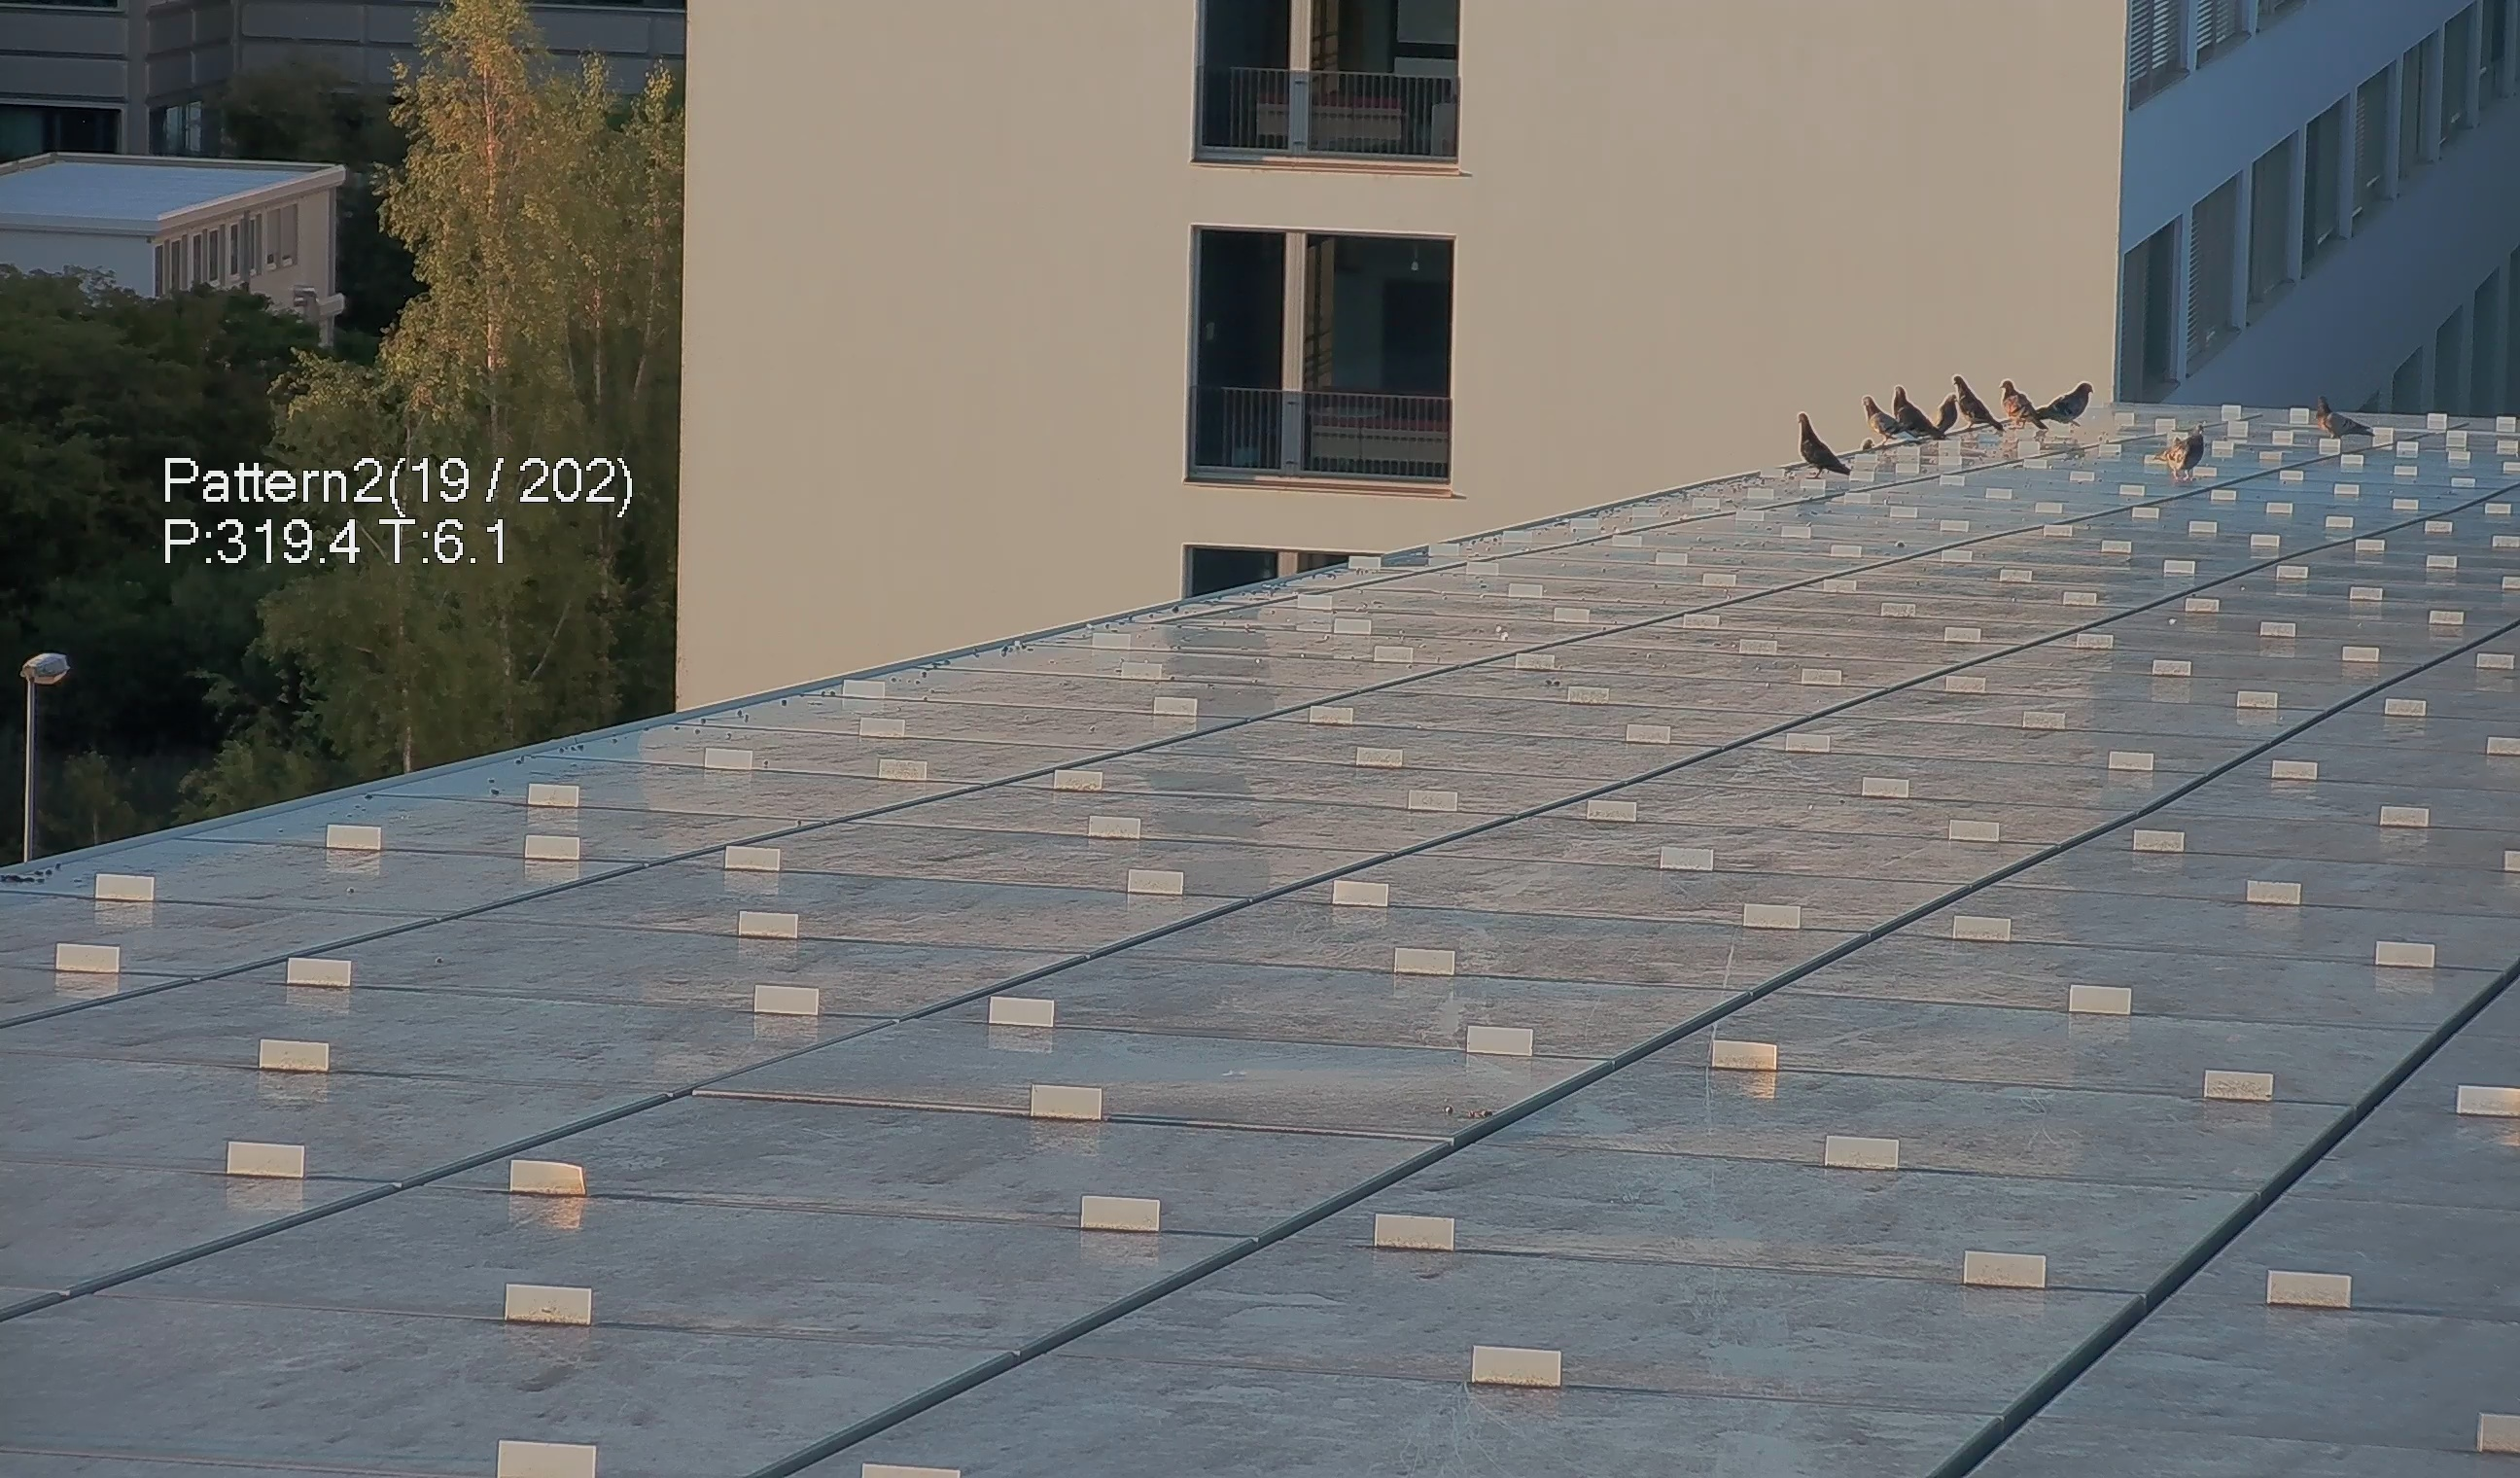Pigeon: (1794, 413, 1852, 480), (2151, 422, 2212, 484), (2318, 391, 2378, 452), (1952, 373, 2001, 435), (1855, 392, 1912, 445), (2038, 380, 2100, 428), (1892, 385, 1945, 440), (2001, 378, 2049, 438), (1927, 392, 1961, 440)
